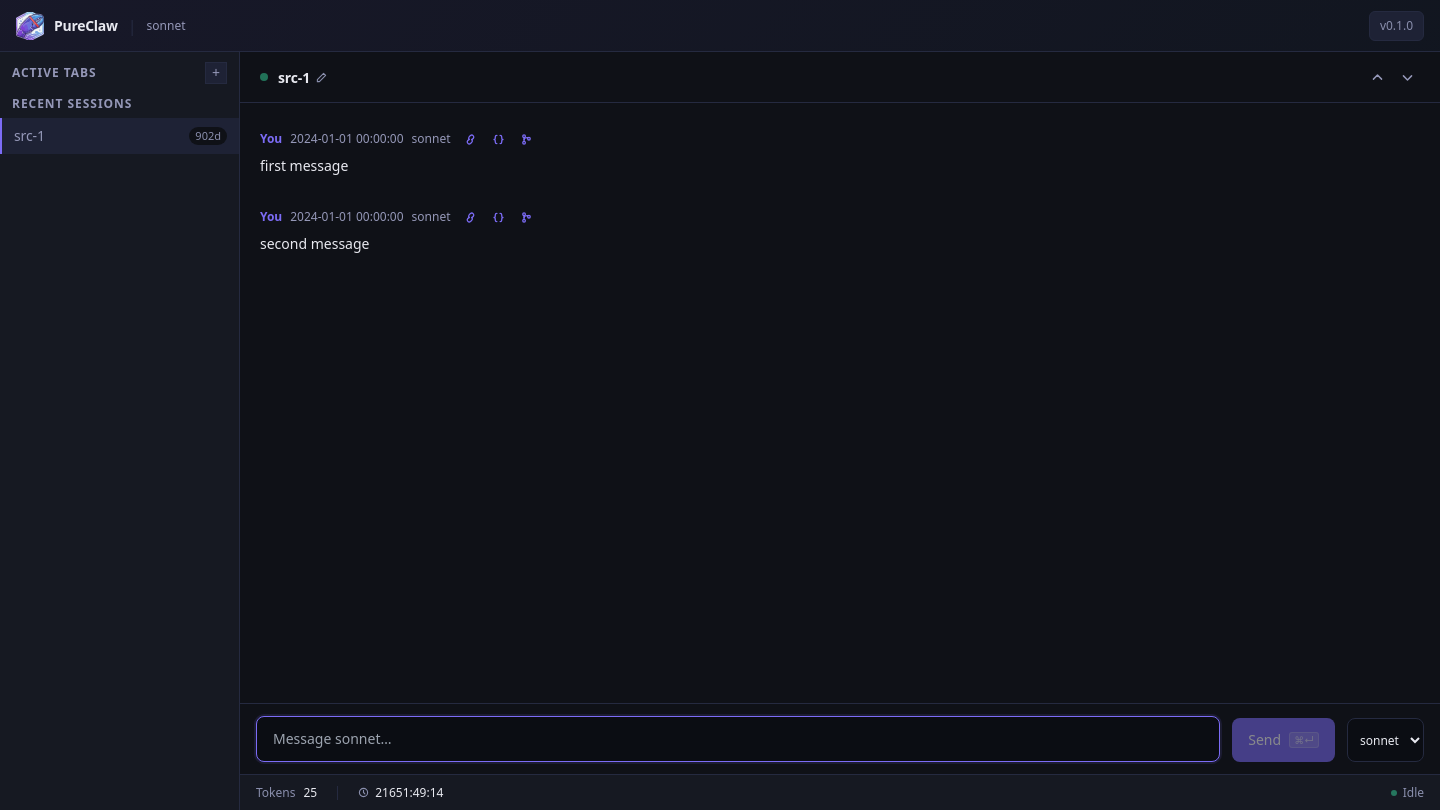
Scenario: App branch draft flow › D12a: prefix rows in branch-draft mode render NO branch button (non-interactive)
The width and height of the screenshot is (1440, 810).
Step 1. Click the 2nd button named "branch session from here" → (526, 217), box x1=514 y1=205 x2=538 y2=229
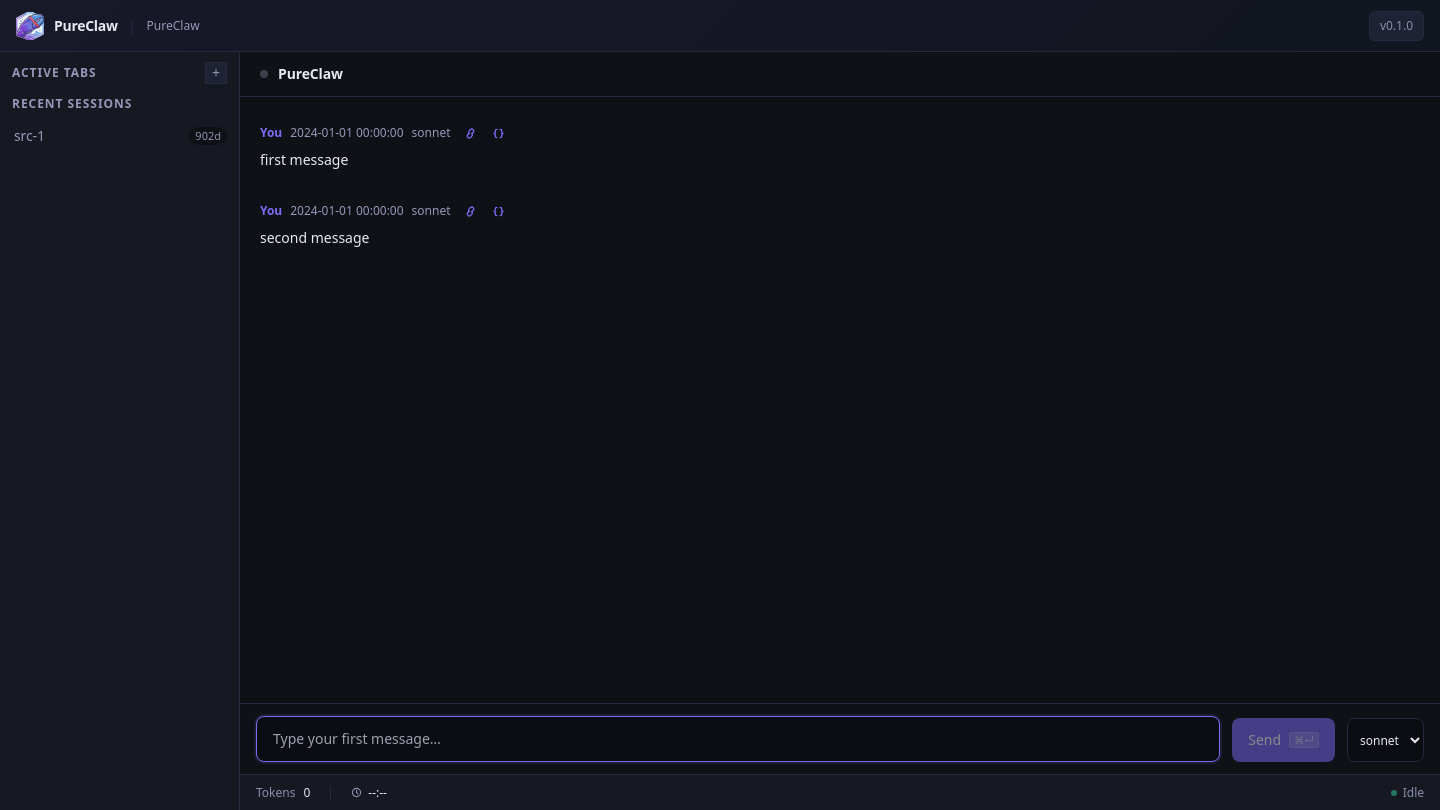
Result: the text box with placeholder "Type your first message…" is shown at x1=256 y1=716 x2=1220 y2=762
